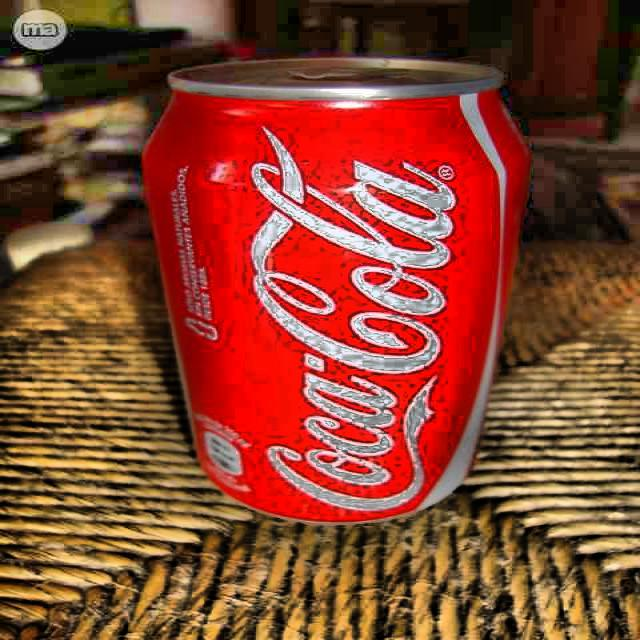Cans: (147, 43, 516, 530)
